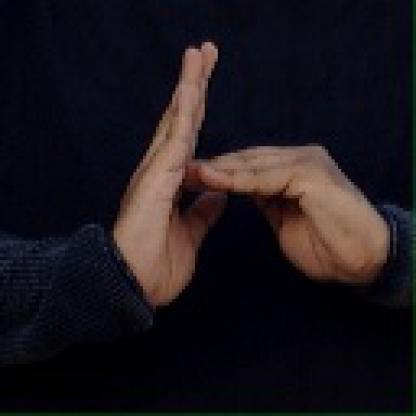Z: (108, 34, 344, 306)
